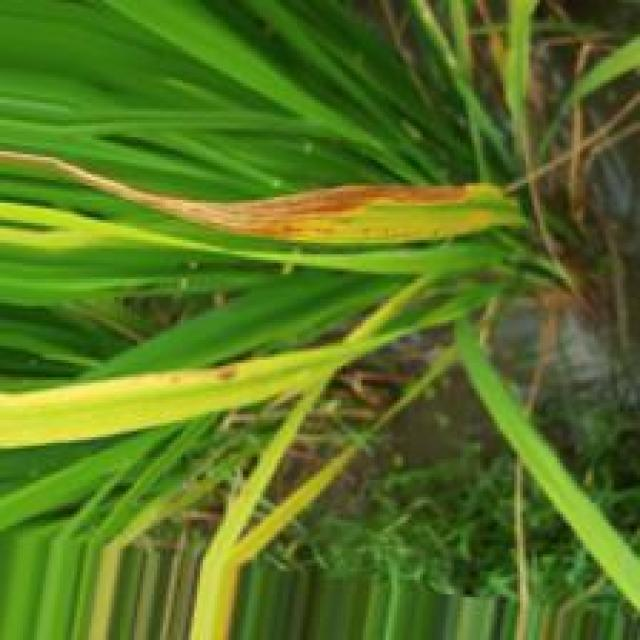Rice False Smut: (83, 173, 479, 240)
